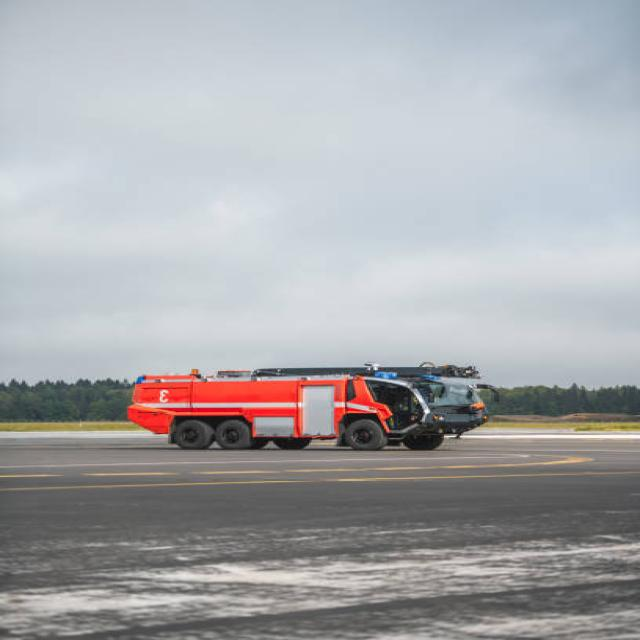emergency: (128, 368, 488, 450)
